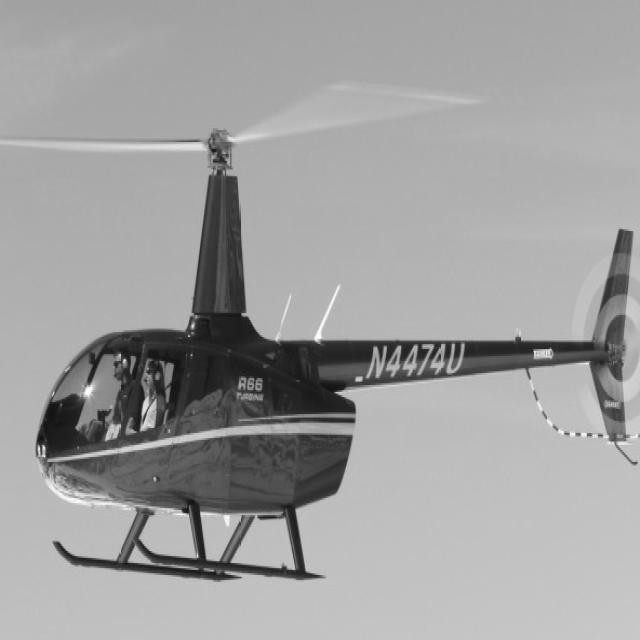helicopter: (1, 76, 640, 595)
